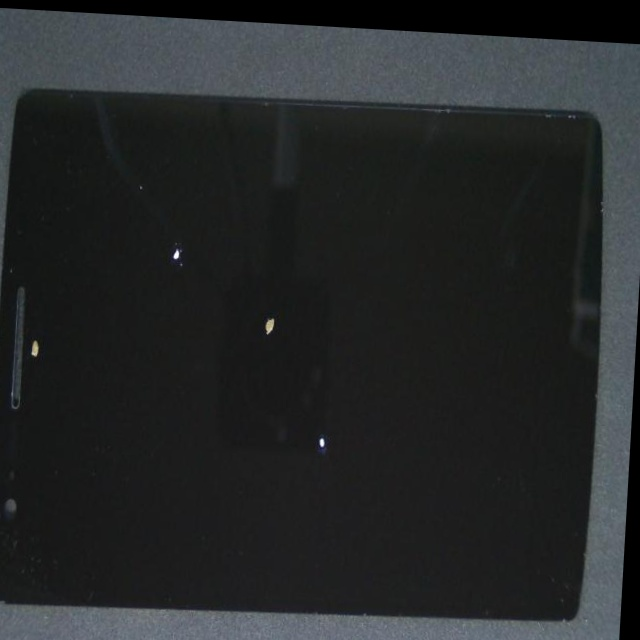stain: (145, 173, 513, 615), (132, 129, 423, 448), (33, 168, 292, 420), (0, 199, 69, 554)
